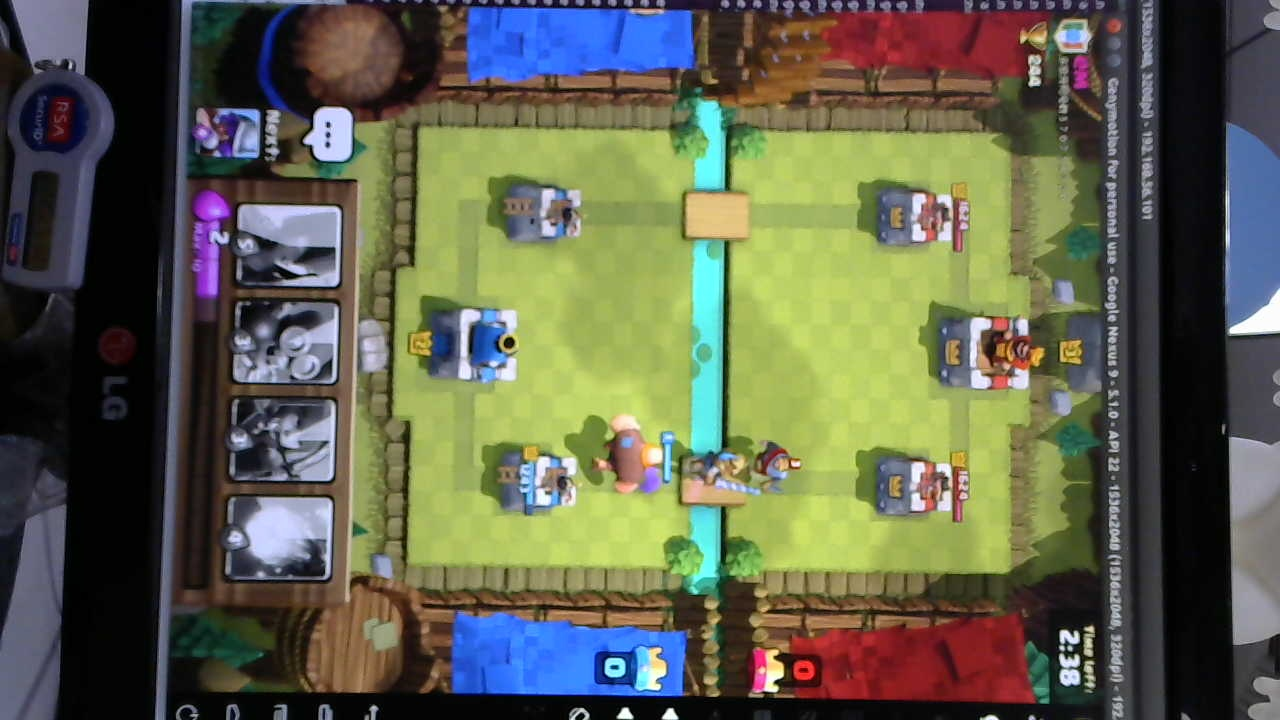arena: (502, 449, 580, 517), (505, 186, 583, 241)
earena: (873, 453, 952, 521), (877, 189, 956, 251)
eking: (938, 312, 1037, 394)
giant: (601, 413, 663, 496)
king: (435, 304, 523, 382)
knight: (748, 434, 798, 494)
prince: (689, 446, 761, 491)
